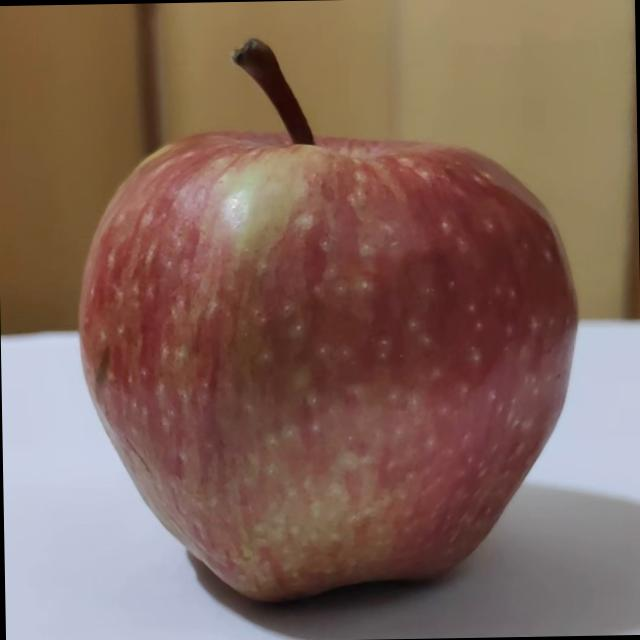apple: (25, 22, 622, 634)
